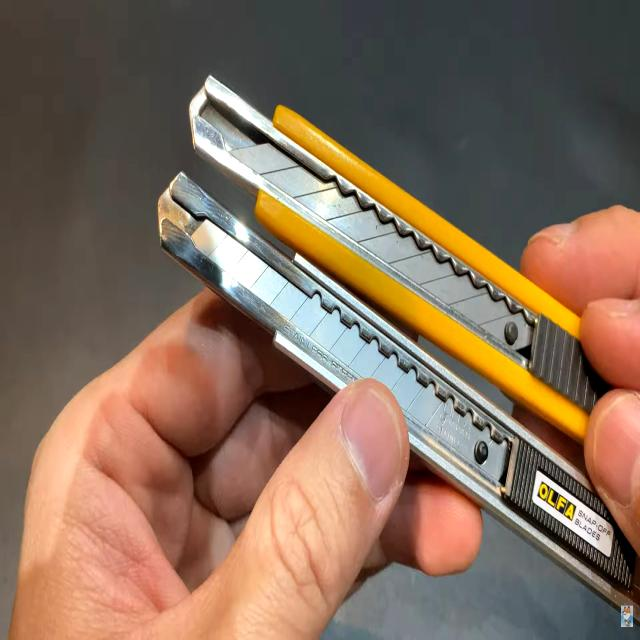cutter: (142, 24, 640, 604)
